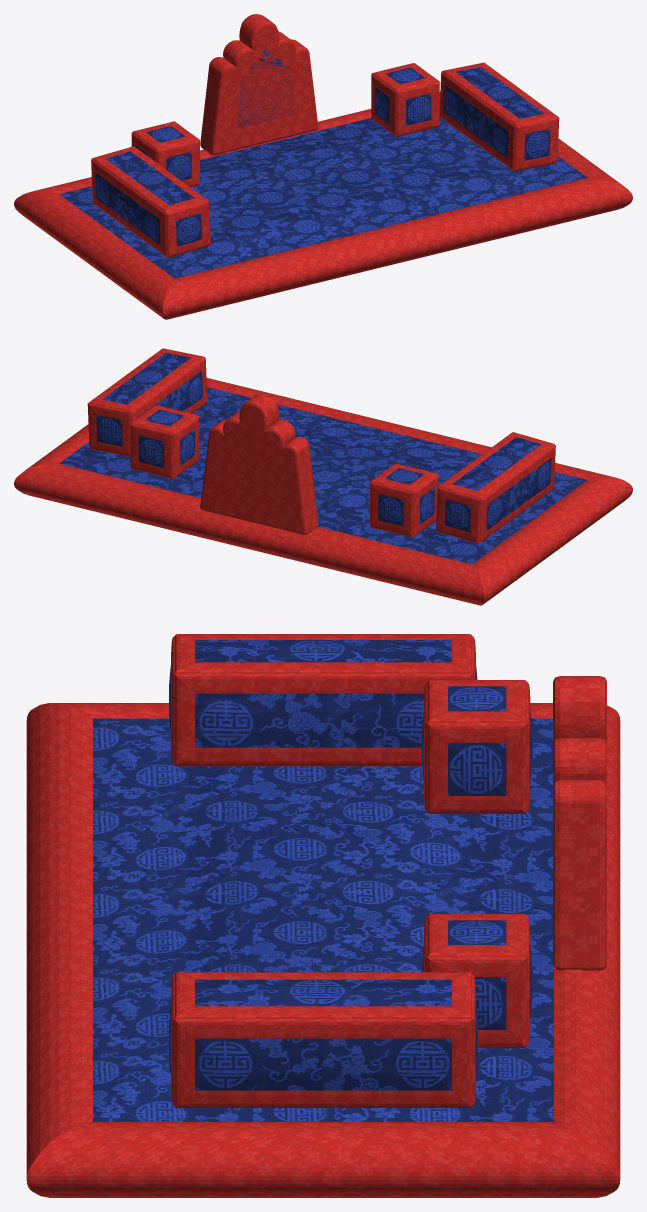
Rendered from Big_Cushion.FBX.
3 renders of one model, top to bottom at view 1: azimuth 30°, elevation 25°; view 2: azimuth 150°, elevation 25°; view 3: azimuth 270°, elevation 25°, orthographic. The views are drawn at different scales.
Visible parts, largest first — view 1: Big_Cushion; view 2: Big_Cushion; view 3: Big_Cushion.
Boxes of the visible parts, left/top/right/bottom form: Big_Cushion: left=14, top=14, right=632, bottom=319; Big_Cushion: left=14, top=348, right=632, bottom=605; Big_Cushion: left=26, top=634, right=620, bottom=1197.
Bounding box in the file's own units: 173 × 53.61 × 94.74.
